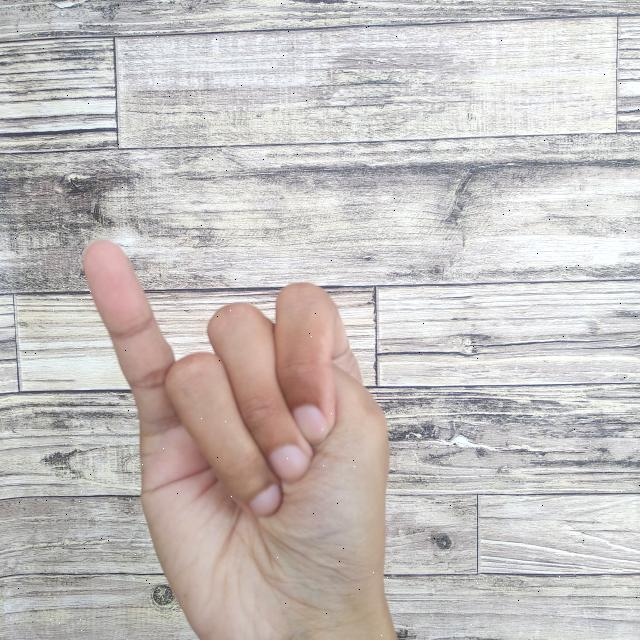I: (80, 234, 405, 640)
